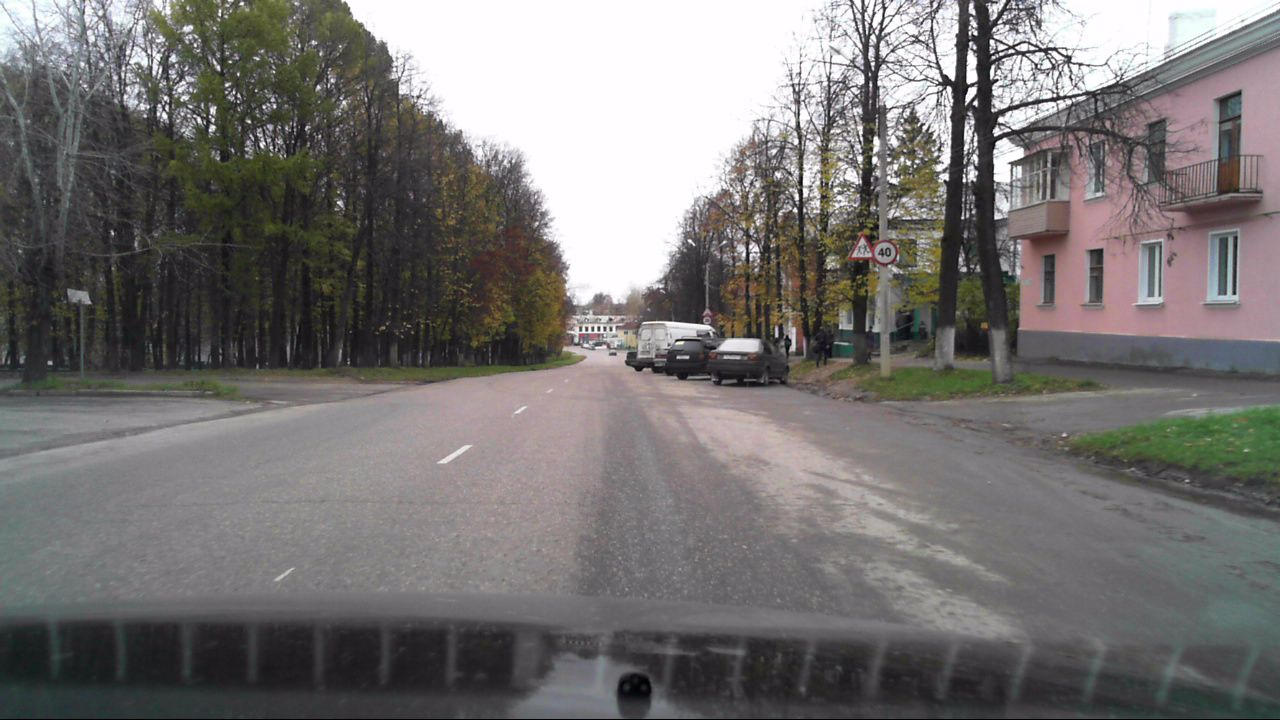speed_warning_40: (872, 239, 898, 265)
